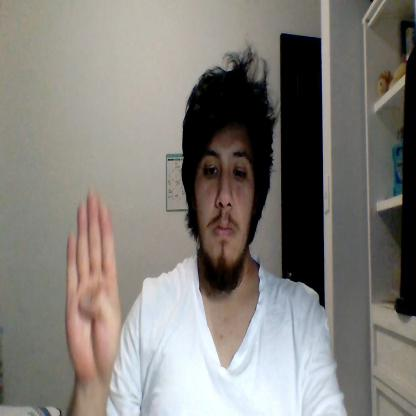B: (66, 189, 121, 380)
